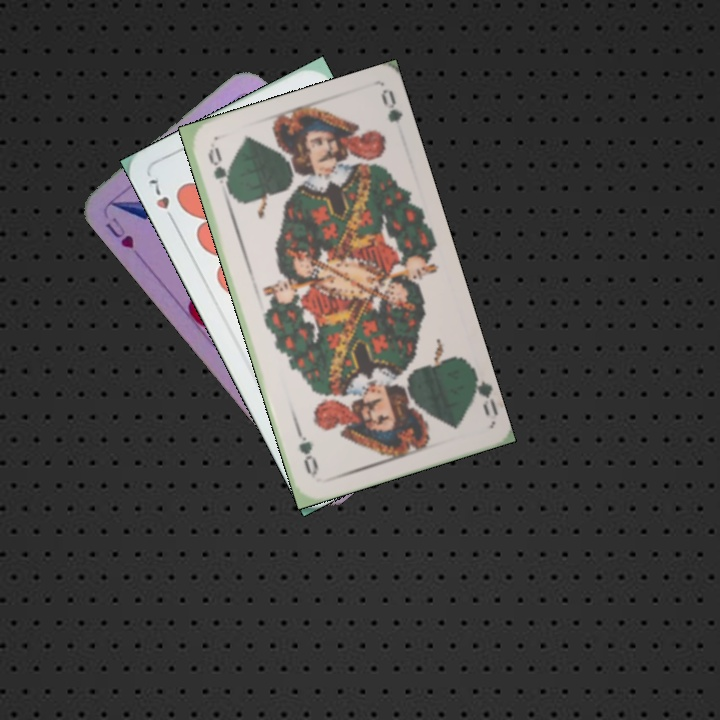GO: (203, 143, 235, 199), (466, 365, 499, 419)
H7: (144, 172, 179, 227)
HU: (101, 213, 137, 251)
